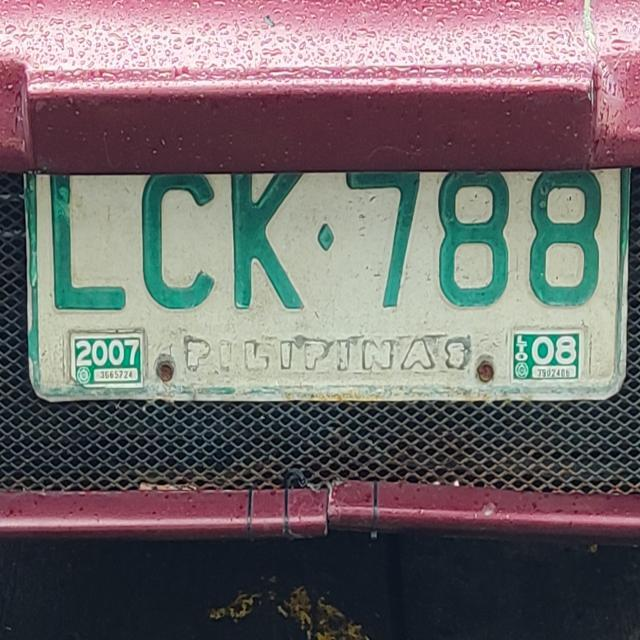LicensePlate: (37, 164, 627, 403)
